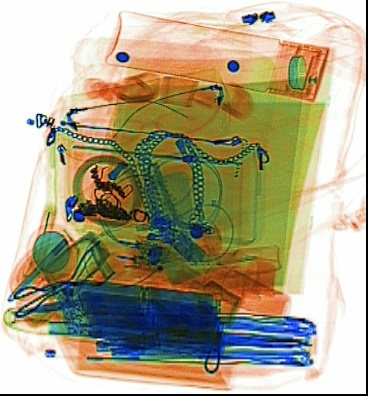powerbank: (44, 270, 227, 357)
